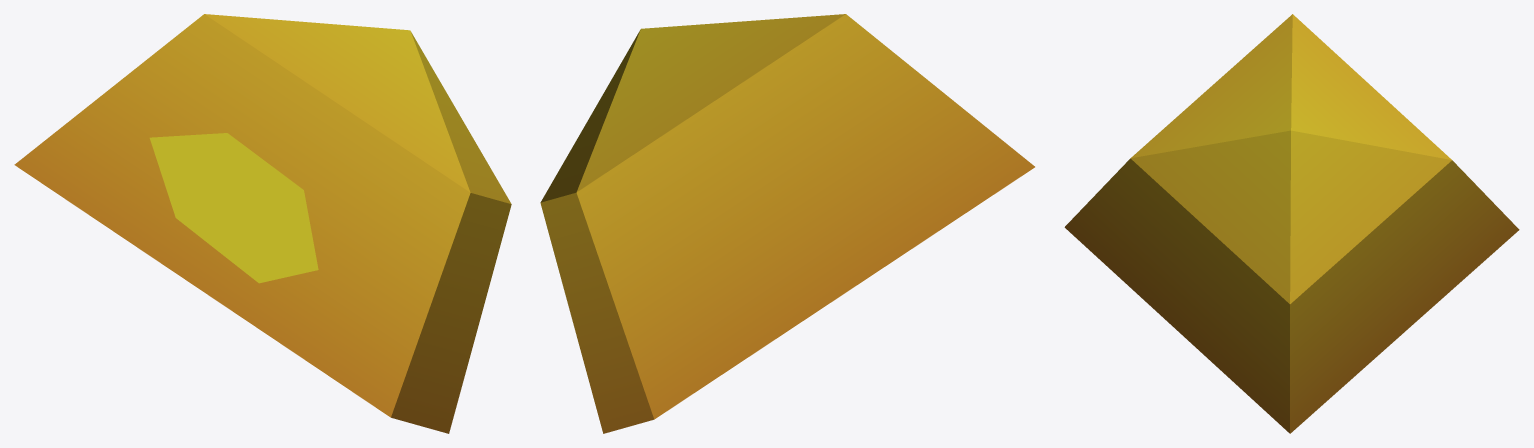
Rendered from goodTimesGreenClockBellB.glb.
3 renders of one model, left to right at view 1: azimuth 30°, elevation 25°; view 2: azimuth 150°, elevation 25°; view 3: azimuth 270°, elevation 25°, orthographic. The views are drawn at different scales.
Visible parts, largest first — view 1: goodTimesGreenClockBellB; view 2: goodTimesGreenClockBellB; view 3: goodTimesGreenClockBellB.
Part boxes in pixels (bbox=[...]): goodTimesGreenClockBellB: bbox=[14, 14, 511, 433]; goodTimesGreenClockBellB: bbox=[540, 14, 1034, 433]; goodTimesGreenClockBellB: bbox=[1064, 14, 1519, 433].
Bounding box in the file's own units: 0.2032 × 0.1876 × 0.23.
